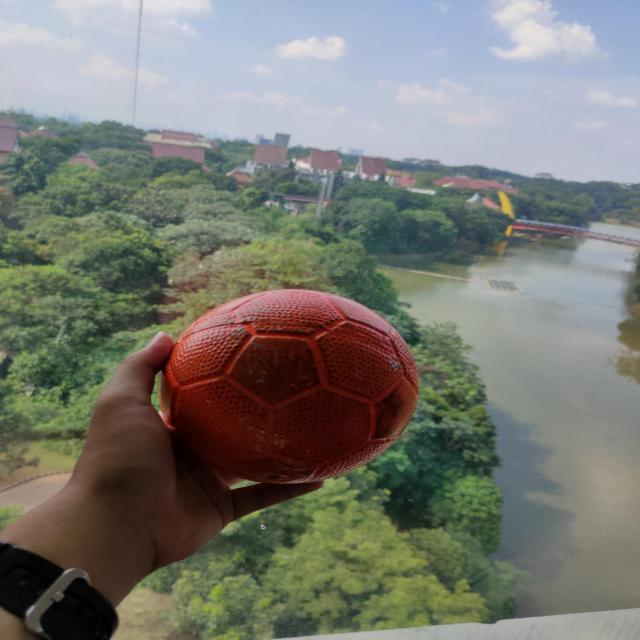bola: (154, 276, 428, 499)
